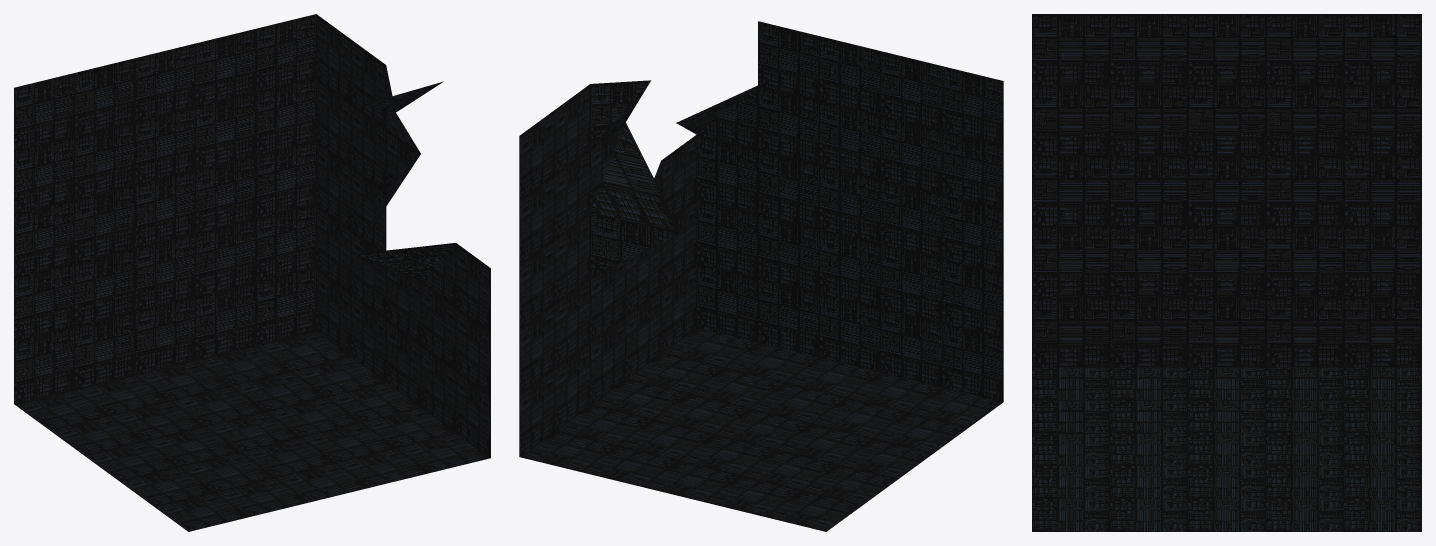
The model's file is outer_shell.gltf.
The picture shows the model from 3 angles, left to right: view 1: azimuth 30°, elevation 25°; view 2: azimuth 150°, elevation 25°; view 3: azimuth 270°, elevation 25°; orthographic projection. The views are drawn at different scales.
Bounding box in the file's own units: 30 × 32.5 × 30.
Materials: 1 (1 with a texture image).
